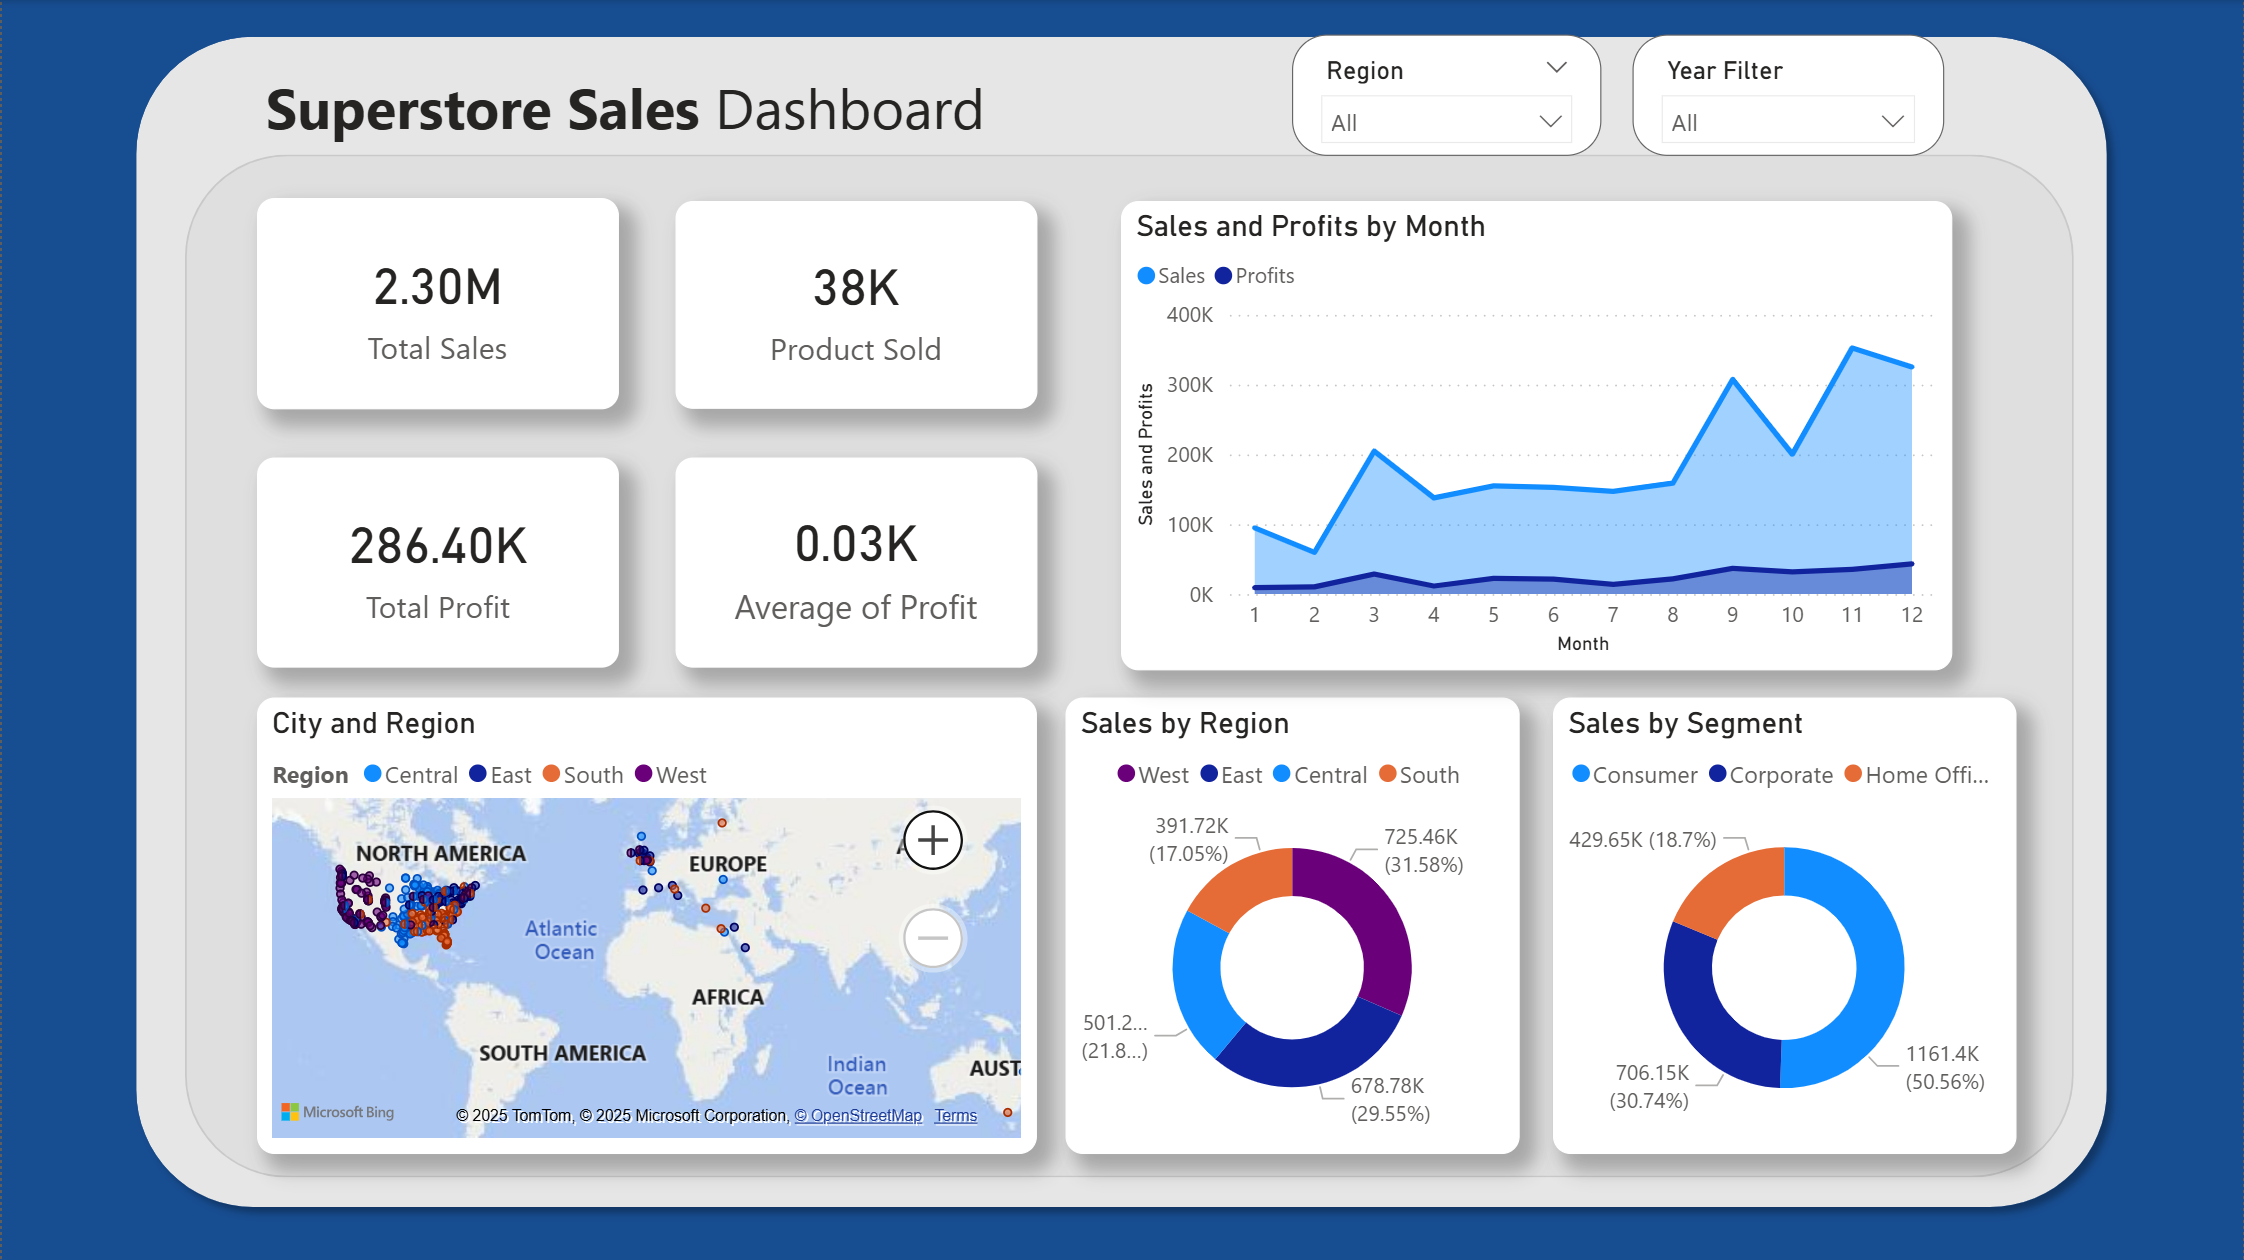

What the dashboard file says about the page in this screenshot:
{"tool":"powerbi","page":{"name":"Superstore Dashboard","canvas":[1280,720],"ordinal":0},"visuals":[{"type":"shape","box":[67.2,11.8,1143.1,686.2],"z":1000},{"type":"shape","box":[104.1,88.2,1078.4,584.2],"z":2000},{"type":"textbox","box":[145.5,33.4,925.4,56.9],"z":3000},{"type":"slicer","fields":{"Values":["Superstore Dataset.Order Year"]},"box":[931.3,19.9,177.8,69.3],"z":4000},{"type":"card","fields":{"Values":["Sum(Superstore Dataset.Sales)"]},"box":[145.5,113,206.8,121],"z":5000},{"type":"card","fields":{"Values":["Sum(Superstore Dataset.Quantity)"]},"box":[384.3,115,206.8,118.9],"z":6000},{"type":"card","fields":{"Values":["Sum(Superstore Dataset.Profit)"]},"box":[145.5,260.8,206.8,119.9],"z":7000},{"type":"card","fields":{"Values":["Avg(Superstore Dataset.Profit)"]},"box":[384.3,260.8,206.8,119.9],"z":8000},{"type":"map","fields":{"Category":["Superstore Dataset.City"],"Series":["Superstore Dataset.Region"]},"box":[145.5,398.3,445.6,260.5],"z":9000},{"type":"slicer","fields":{"Values":["Superstore Dataset.Region"]},"box":[736.9,19.9,176.8,69.3],"z":10000},{"type":"donutChart","fields":{"Category":["Superstore Dataset.Region"],"Y":["Sum(Superstore Dataset.Sales)"]},"box":[607.6,398.3,259.5,260.5],"z":11000},{"type":"areaChart","fields":{"Category":["Superstore Dataset.Order Month"],"Y":["Sum(Superstore Dataset.Sales)","Sum(Superstore Dataset.Profit)"]},"box":[638.7,115,474.6,267.8],"z":11001},{"type":"donutChart","fields":{"Y":["Sum(Superstore Dataset.Sales)"],"Category":["Superstore Dataset.Segment"]},"box":[885.8,398.3,264.7,260.5],"z":11002}]}

Visuals, with their boxes in screenshot pixels (x1, y1, x2, y2), scaled from the page's 1280x720 canvas onto the 2244x1260 screenshot:
shape: Rect(118, 21, 2122, 1222)
shape: Rect(183, 154, 2073, 1177)
textbox: Rect(255, 58, 1877, 158)
slicer - Superstore Dataset.Order Year: Rect(1633, 35, 1944, 156)
card - Sum(Superstore Dataset.Sales): Rect(255, 198, 618, 410)
card - Sum(Superstore Dataset.Quantity): Rect(674, 201, 1036, 409)
card - Sum(Superstore Dataset.Profit): Rect(255, 456, 618, 666)
card - Avg(Superstore Dataset.Profit): Rect(674, 456, 1036, 666)
map - Superstore Dataset.City x Superstore Dataset.Region: Rect(255, 697, 1036, 1153)
slicer - Superstore Dataset.Region: Rect(1292, 35, 1602, 156)
donutChart - Superstore Dataset.Region x Sum(Superstore Dataset.Sales): Rect(1065, 697, 1520, 1153)
areaChart - Superstore Dataset.Order Month x Sum(Superstore Dataset.Sales): Rect(1120, 201, 1952, 670)
donutChart - Sum(Superstore Dataset.Sales) x Superstore Dataset.Segment: Rect(1553, 697, 2017, 1153)
